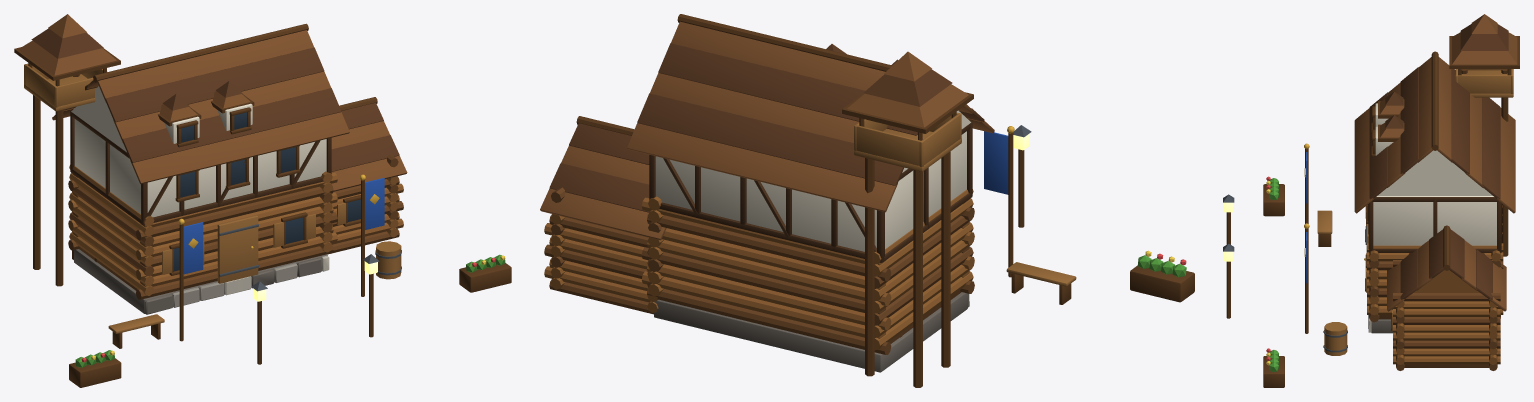
The model's file is budynek_glowny_poz09.glb.
3 renders of one model, left to right at view 1: azimuth 30°, elevation 25°; view 2: azimuth 150°, elevation 25°; view 3: azimuth 270°, elevation 25°, orthographic. The views are drawn at different scales.
Visible parts, largest first — view 1: budynek_glowny_poz09; view 2: budynek_glowny_poz09; view 3: budynek_glowny_poz09.
Part boxes in pixels (x1,y1,x2,y2): budynek_glowny_poz09: [14, 14, 511, 387]; budynek_glowny_poz09: [540, 14, 1194, 387]; budynek_glowny_poz09: [1223, 14, 1519, 387].
Size of the model in its own units: 12.4 by 7.08 by 8.18.
